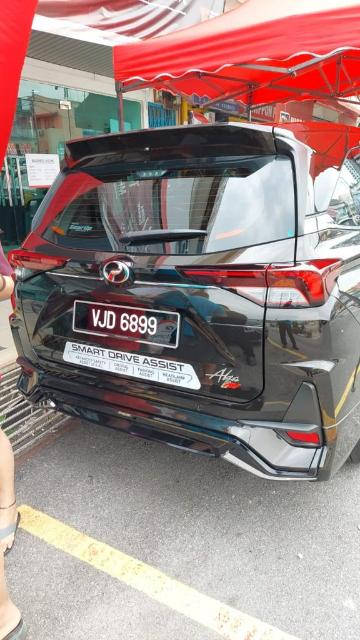License_Plate: (72, 299, 173, 345)
car: (9, 127, 360, 484)
